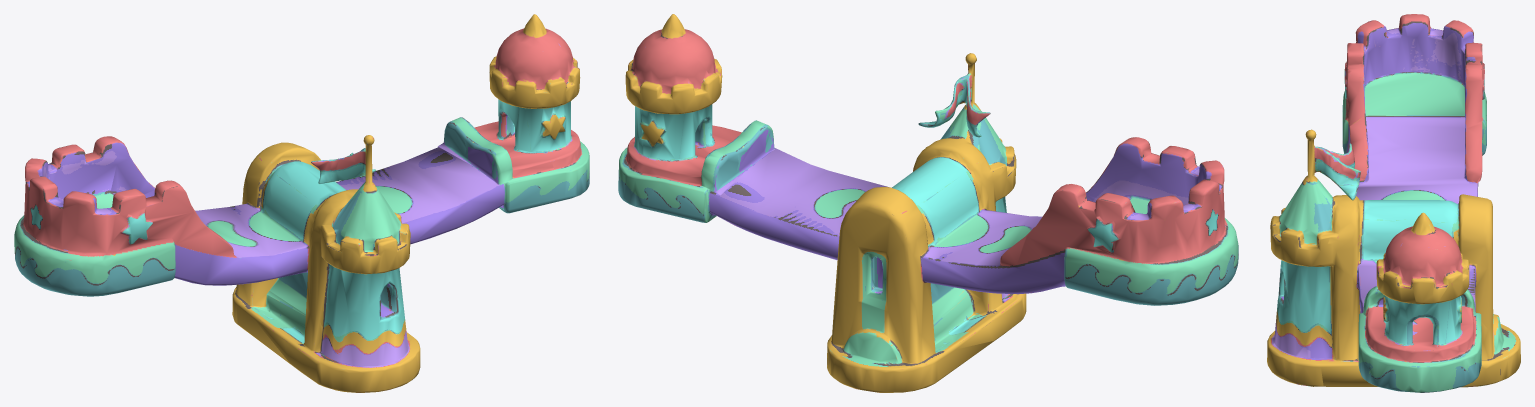
Rendered from play_seesaw.glb.
3 views of the same model, side by side, from view 1: azimuth 30°, elevation 25°; view 2: azimuth 150°, elevation 25°; view 3: azimuth 270°, elevation 25° (orthographic). The views are drawn at different scales.
Visible parts, largest first — view 1: Mesh_0; view 2: Mesh_0; view 3: Mesh_0.
Part boxes in pixels (x1,y1,x2,y2): Mesh_0: (14, 14, 589, 392); Mesh_0: (618, 14, 1238, 392); Mesh_0: (1267, 14, 1520, 392).
Size of the model in its own units: 1.89 by 0.8697 by 0.7573.
Materials: 1 (1 with a texture image).
